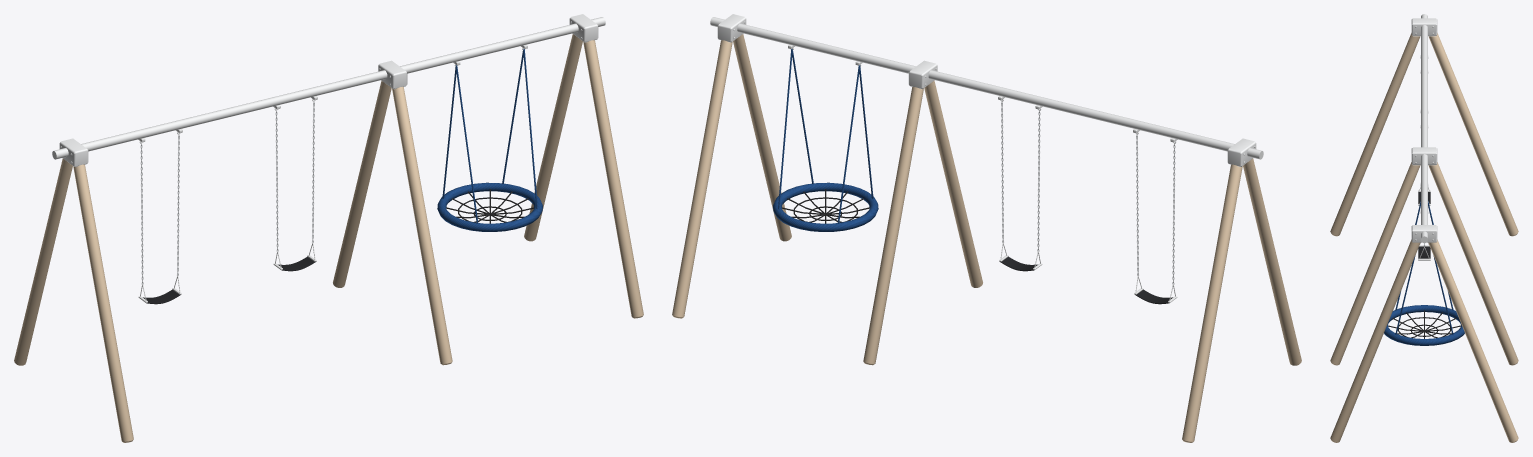
File: playground_swings.glb
3 renders of one model, left to right at view 1: azimuth 30°, elevation 25°; view 2: azimuth 150°, elevation 25°; view 3: azimuth 270°, elevation 25°, orthographic. The views are drawn at different scales.
Parts seen in each view (by area): view 1: playground_swings_wood_robinia, playground_swings_steel_galv, Swing_Nest, Swing_Left, Swing_Right; view 2: playground_swings_wood_robinia, playground_swings_steel_galv, Swing_Nest, Swing_Left, Swing_Right; view 3: playground_swings_wood_robinia, playground_swings_steel_galv, Swing_Nest, Swing_Right.
Part boxes in pixels (x1,y1,x2,y2): playground_swings_wood_robinia: [14, 34, 643, 442]; playground_swings_steel_galv: [52, 14, 605, 166]; Swing_Nest: [437, 49, 542, 231]; Swing_Left: [138, 133, 181, 304]; Swing_Right: [273, 102, 316, 271]; playground_swings_wood_robinia: [672, 34, 1301, 442]; playground_swings_steel_galv: [710, 14, 1263, 166]; Swing_Nest: [773, 49, 878, 231]; Swing_Left: [1134, 134, 1177, 304]; Swing_Right: [999, 102, 1042, 271]; playground_swings_wood_robinia: [1330, 33, 1518, 442]; playground_swings_steel_galv: [1411, 14, 1437, 242]; Swing_Nest: [1384, 200, 1464, 345]; Swing_Right: [1418, 243, 1430, 260].
Bounding box in the file's own units: 7.32 × 3.3 × 2.62.
6 materials, 3 textured.
